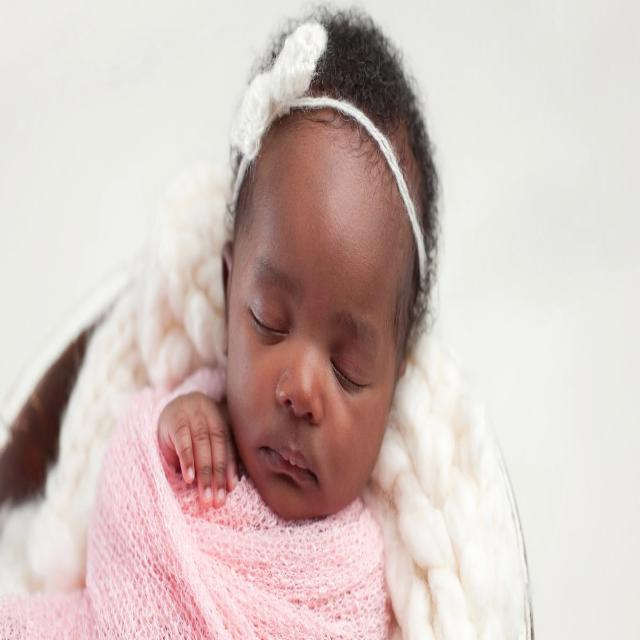child: (89, 28, 433, 640)
